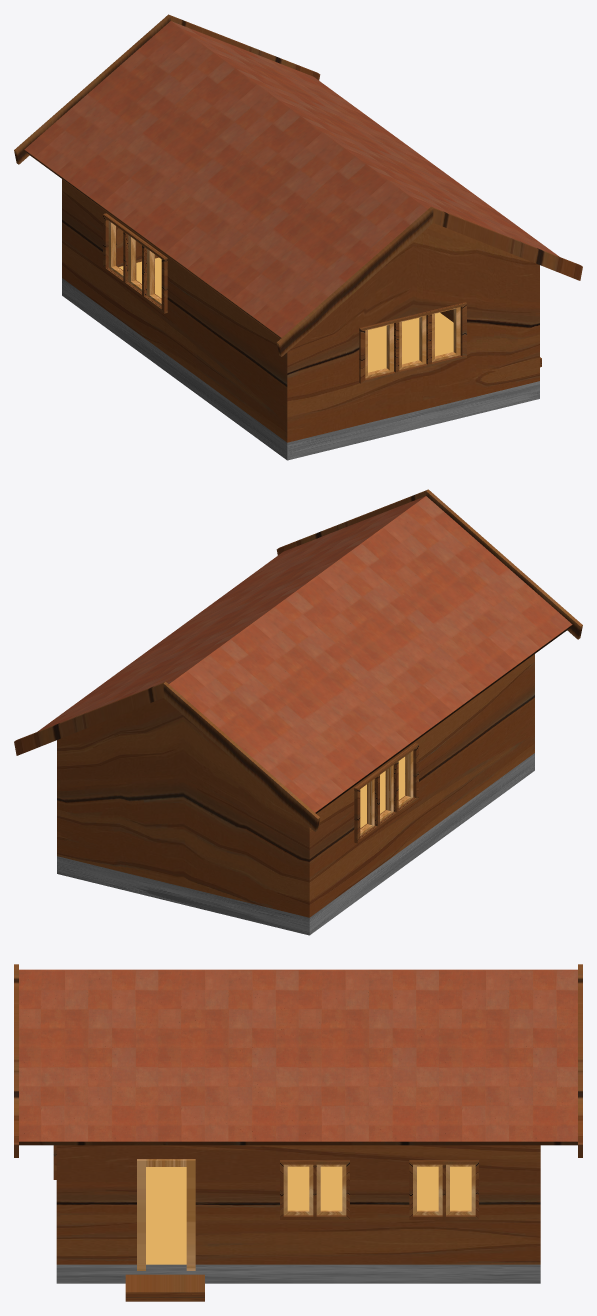
The model's file is small-cottage.obj.
The picture shows the model from 3 angles, top to bottom: view 1: azimuth 30°, elevation 25°; view 2: azimuth 150°, elevation 25°; view 3: azimuth 270°, elevation 25°; orthographic projection. The views are drawn at different scales.
Visible parts, largest first — view 1: roof, frame, base, roof-side.001, roof-side.002, window-side-frame, window-rear-frame, window-side-frame-interior1, window-side-frame-interior3, window-side-frame-interior2; view 2: roof, frame, base, roof-side.002, roof-side.001, window-rear-frame; view 3: roof, frame, base, door-frame, base-step, window-front1-frame, window-front2-frame, roof-side.001, roof-side.002, window-front1-interior1, window-front1-interior2, window-front2-interior1 (+1 smaller).
Boxes of the visible parts, <box> form: roof: <box>24,21,559,338</box>; frame: <box>62,179,539,442</box>; base: <box>62,257,539,460</box>; roof-side.001: <box>276,207,582,356</box>; roof-side.002: <box>14,14,320,164</box>; window-side-frame: <box>359,302,466,383</box>; window-rear-frame: <box>103,213,167,313</box>; window-side-frame-interior1: <box>365,323,393,378</box>; window-side-frame-interior3: <box>432,307,460,361</box>; window-side-frame-interior2: <box>399,315,426,369</box>; roof: <box>37,496,572,813</box>; frame: <box>57,654,534,917</box>; base: <box>57,753,534,935</box>; roof-side.002: <box>14,682,320,831</box>; roof-side.001: <box>276,489,582,639</box>; window-rear-frame: <box>354,743,418,843</box>; roof: <box>19,969,577,1145</box>; frame: <box>56,1145,540,1264</box>; base: <box>56,1166,540,1283</box>; door-frame: <box>137,1159,195,1270</box>; base-step: <box>125,1274,204,1301</box>; window-front1-frame: <box>280,1160,349,1219</box>; window-front2-frame: <box>409,1160,478,1219</box>; roof-side.001: <box>14,964,18,1157</box>; roof-side.002: <box>578,964,582,1157</box>; window-front1-interior1: <box>283,1164,313,1215</box>; window-front1-interior2: <box>316,1164,346,1215</box>; window-front2-interior1: <box>413,1164,442,1215</box>.
Size of the model in its own units: 6.86 by 4.9 by 9.99.
